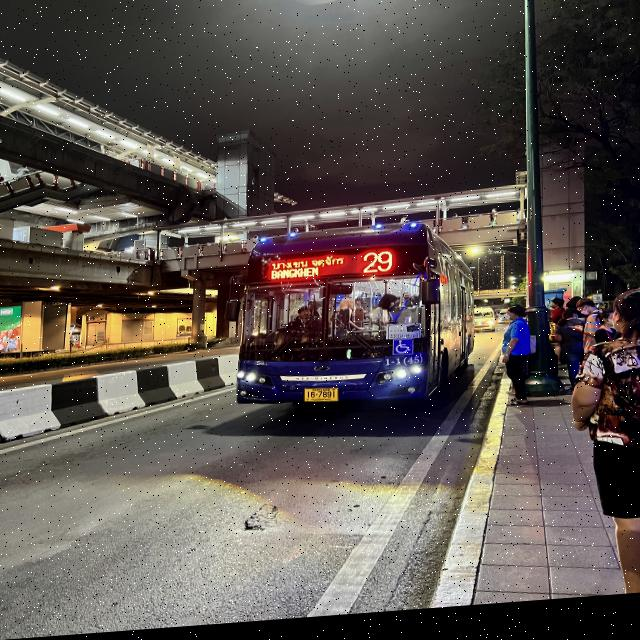Bus Line Number: (356, 252, 400, 284)
Bus Side Number: (382, 360, 424, 375)
Destination Sign: (267, 257, 348, 287)
TSB-Bus: (235, 229, 472, 412)
